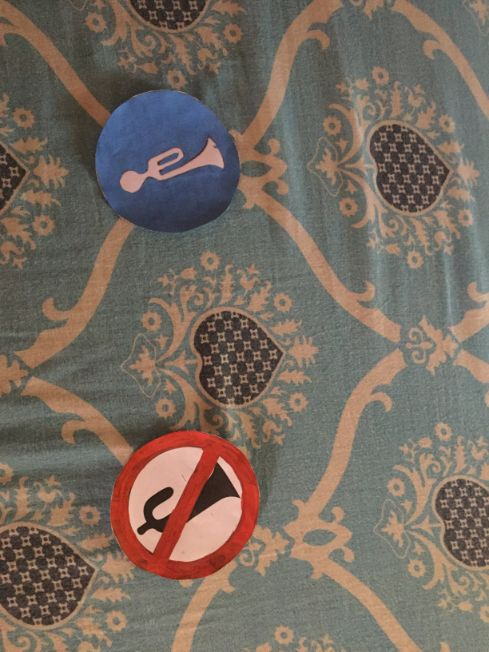blow-horn: (93, 89, 240, 234)
no-horn: (112, 429, 258, 578)
